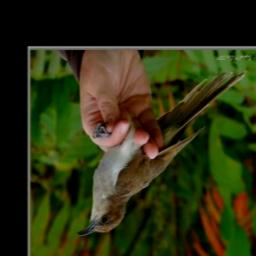Cuckoo: (76, 70, 247, 237)
